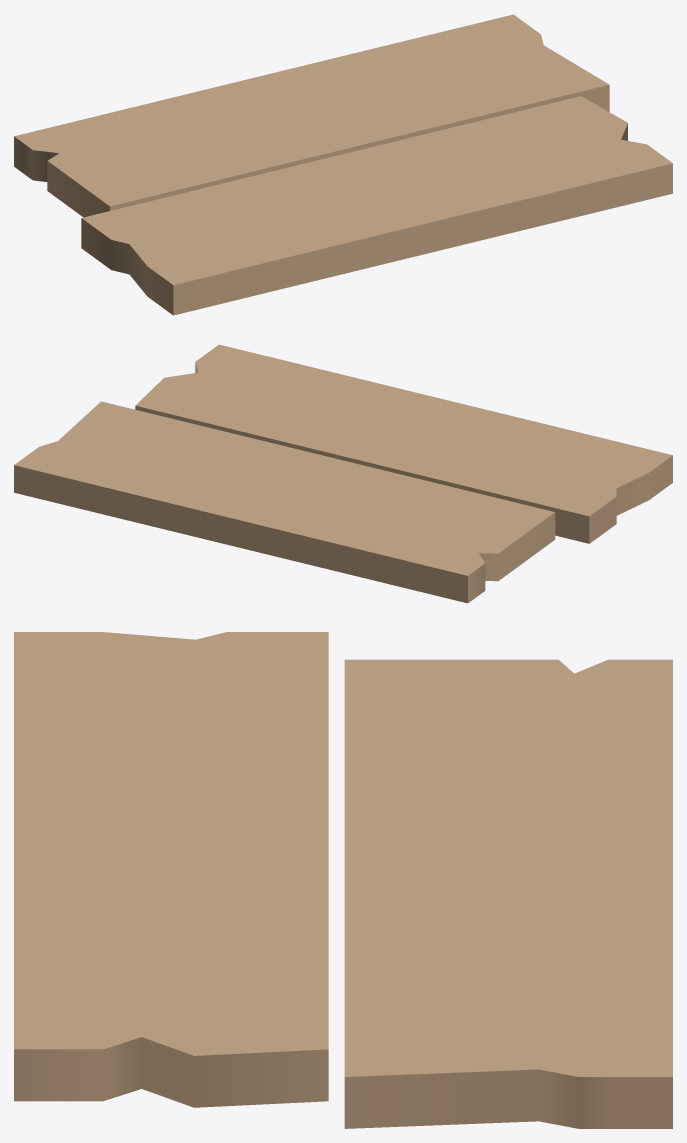
File: gimmicks_bridge_planks.fbx
3 views of the same model, one above another, from view 1: azimuth 30°, elevation 25°; view 2: azimuth 150°, elevation 25°; view 3: azimuth 270°, elevation 25° (orthographic). The views are drawn at different scales.
Visible parts, largest first — view 1: bridge_planks_pCube36; view 2: bridge_planks_pCube36; view 3: bridge_planks_pCube36.
Part boxes in pixels (left/top/right/bottom): bridge_planks_pCube36: left=14, top=14, right=672, bottom=315; bridge_planks_pCube36: left=14, top=344, right=672, bottom=603; bridge_planks_pCube36: left=14, top=632, right=672, bottom=1128.
Bounding box in the file's own units: 154 × 8.37 × 96.32.
